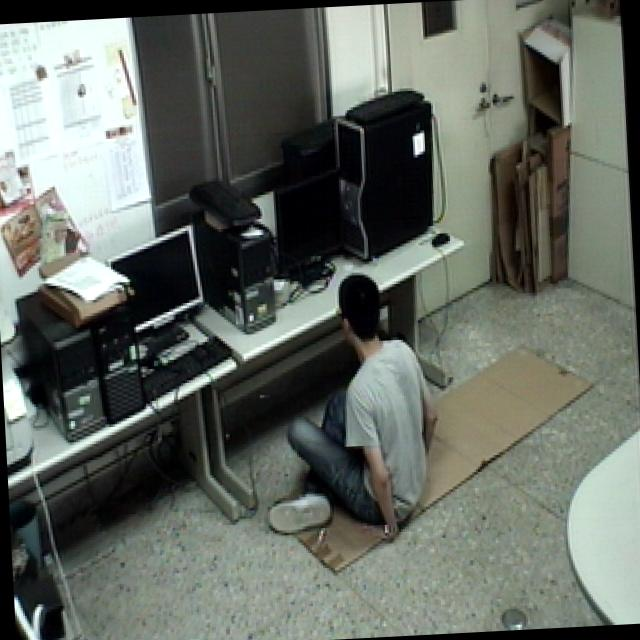sit: (248, 266, 451, 551)
